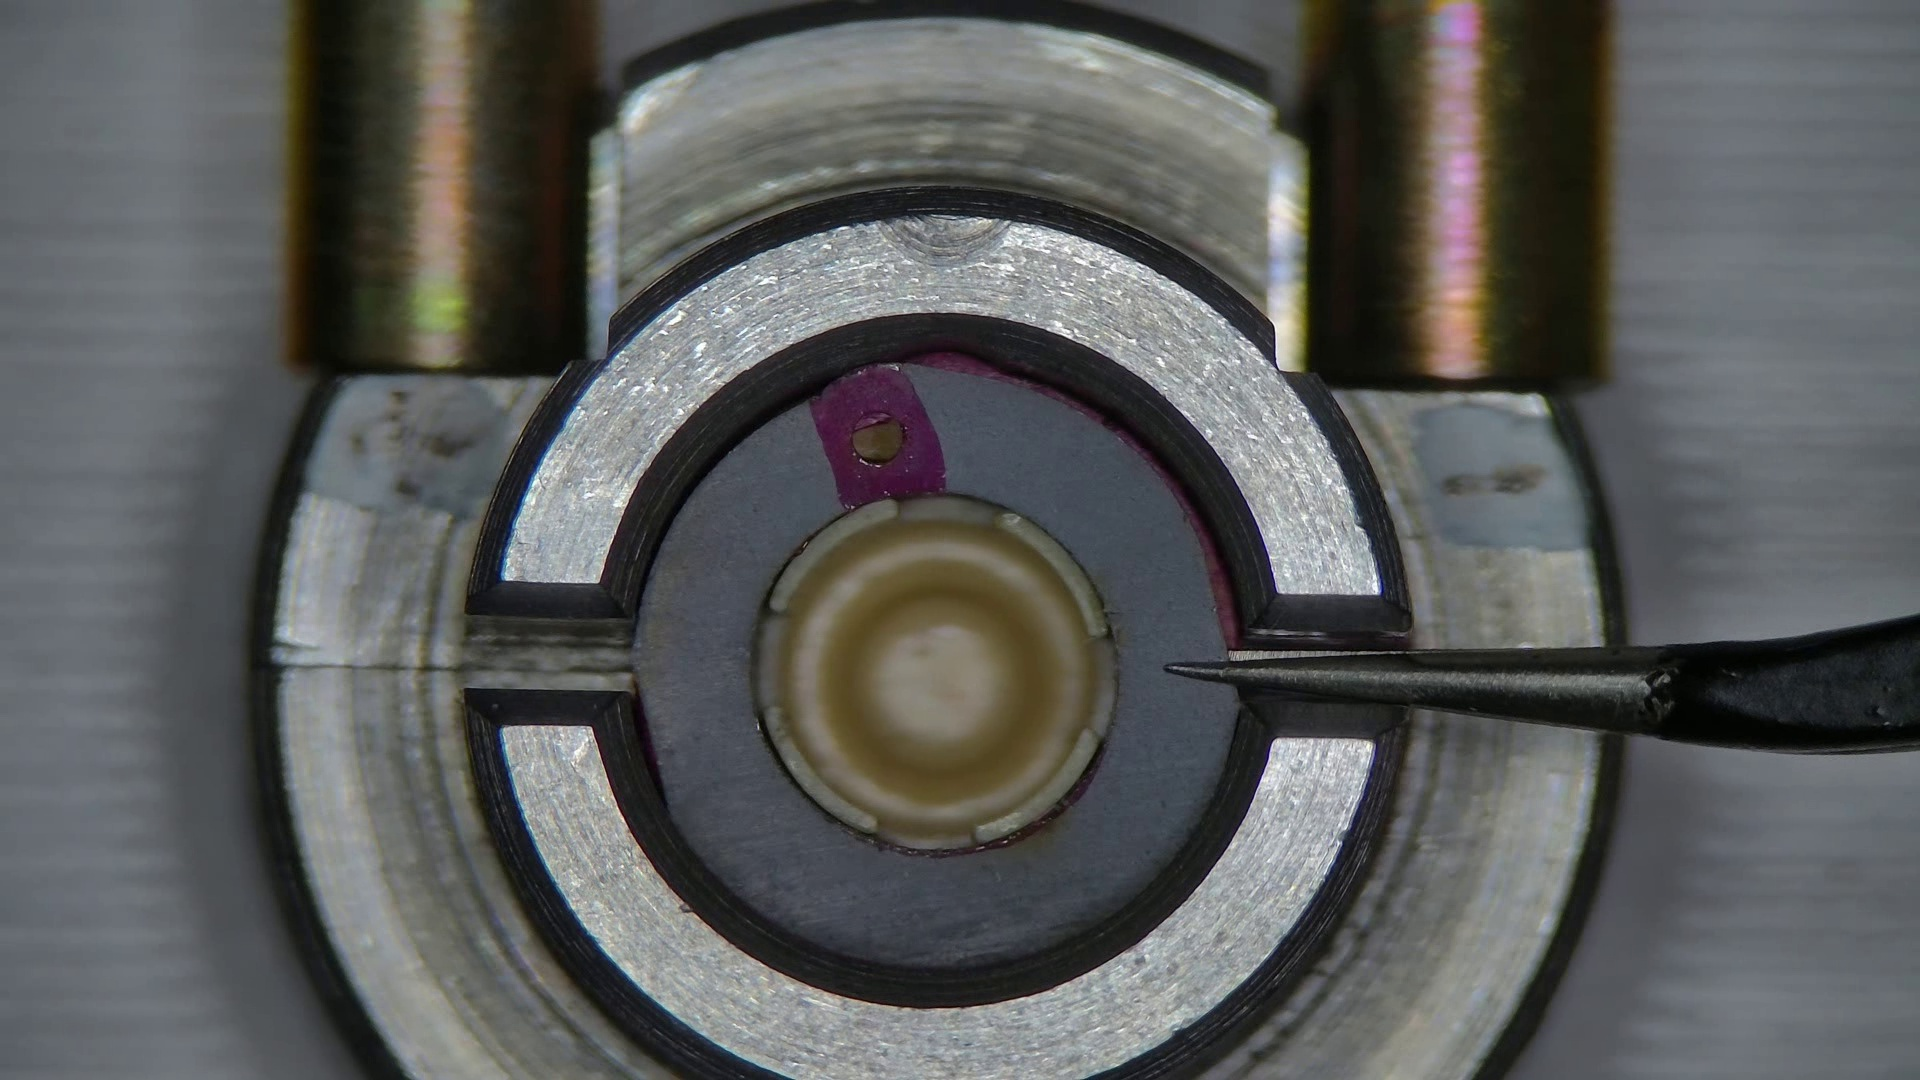YellowOring: (640, 357, 1228, 968)
